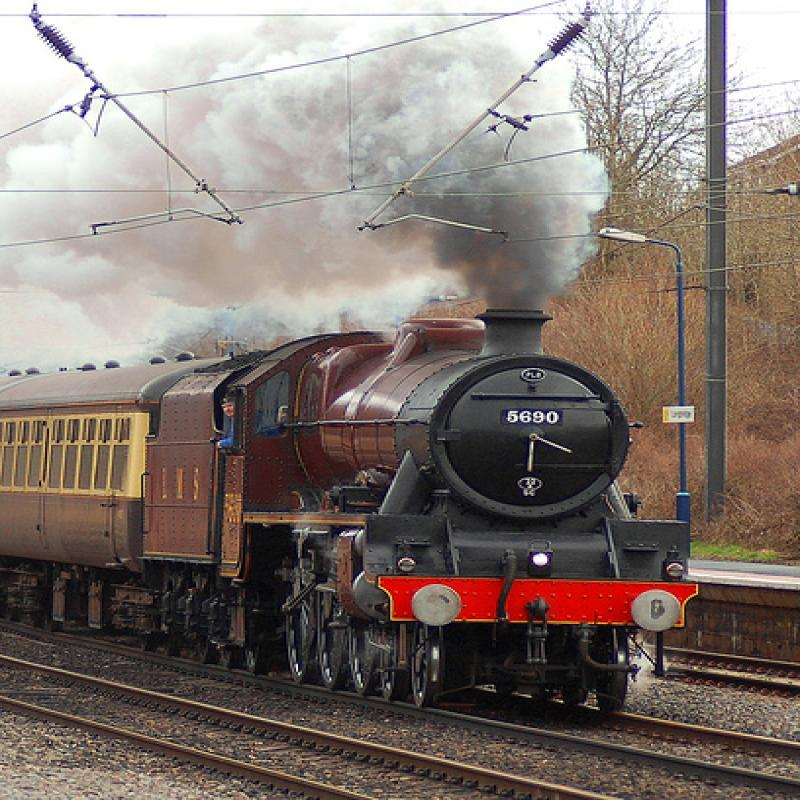train: (1, 304, 707, 720)
